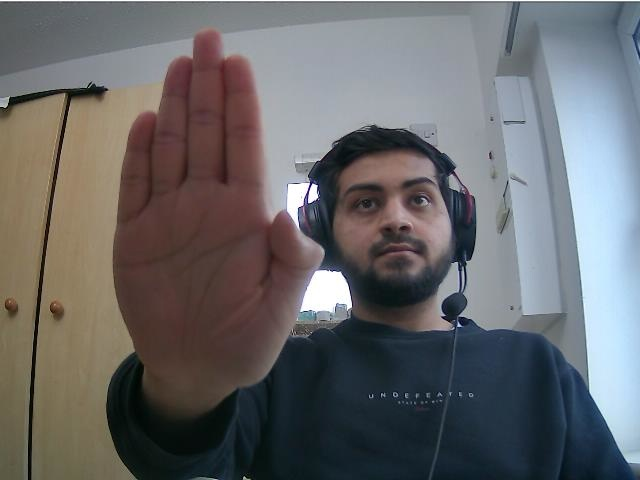up: (112, 28, 325, 370)
